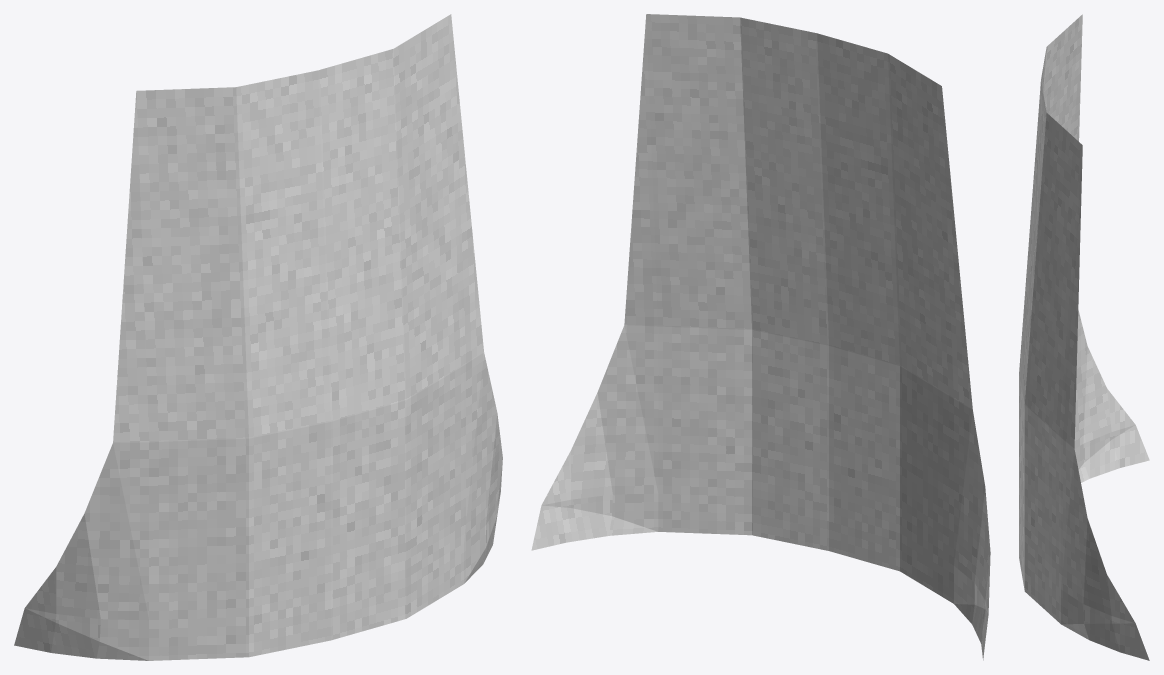
File: cloak_trimmed_inside.obj
3 views of the same model, side by side, from view 1: azimuth 30°, elevation 25°; view 2: azimuth 150°, elevation 25°; view 3: azimuth 270°, elevation 25° (orthographic). The views are drawn at different scales.
Parts seen in each view (by area): view 1: InsideMesh_Plane; view 2: InsideMesh_Plane; view 3: InsideMesh_Plane.
Boxes of the visible parts, bbox=[...] form: InsideMesh_Plane: bbox=[14, 14, 502, 660]; InsideMesh_Plane: bbox=[531, 14, 990, 660]; InsideMesh_Plane: bbox=[1019, 14, 1149, 660].
Size of the model in its own units: 3.05 by 3.42 by 0.8414.
